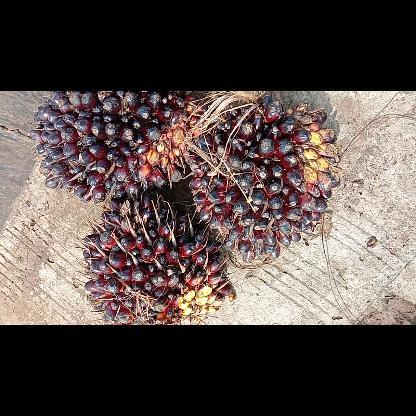TBS mentah: (189, 91, 343, 263), (26, 91, 214, 207), (77, 192, 238, 324)
